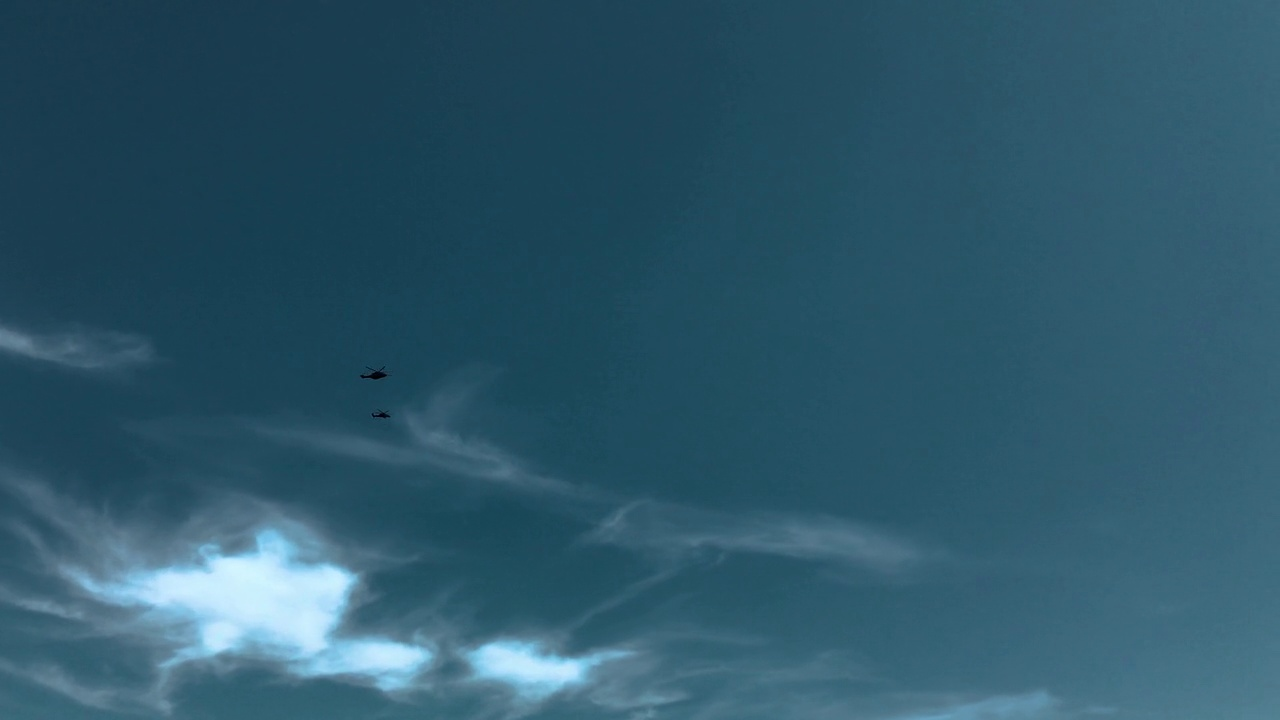heli: (360, 363, 392, 380), (370, 407, 390, 420)
